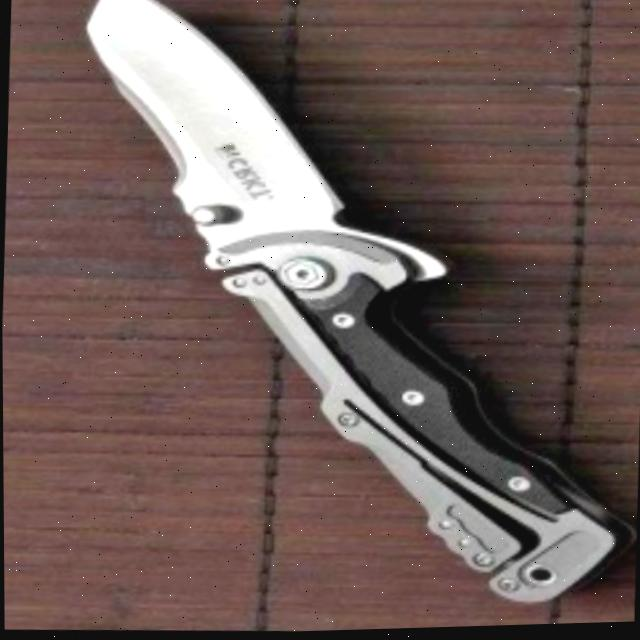pocket-knife: (56, 0, 640, 626)
